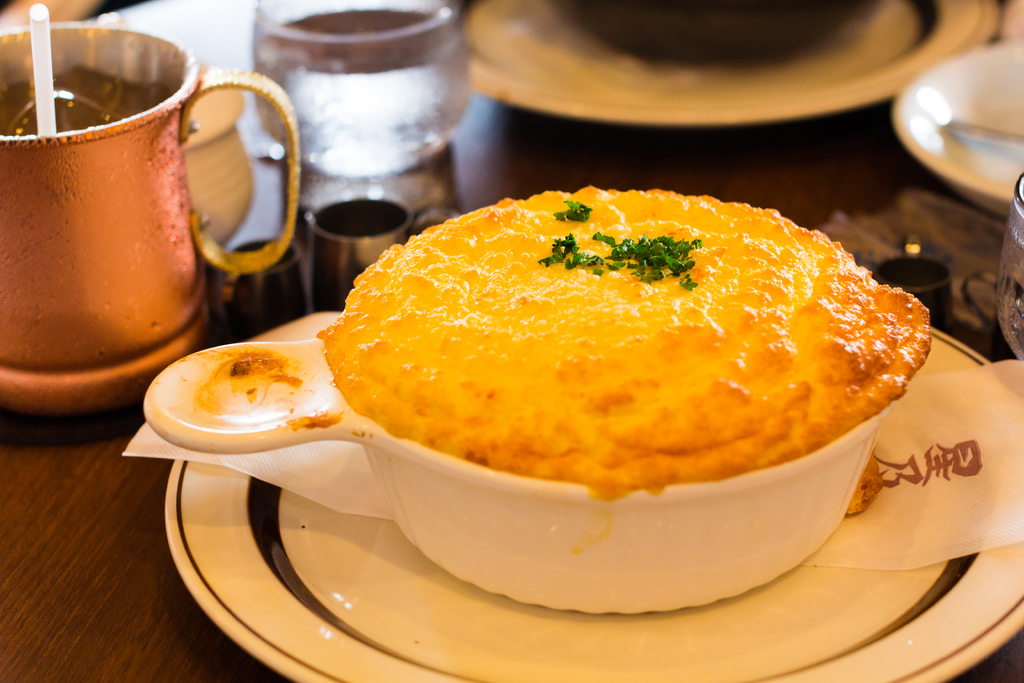person: (0, 0, 255, 28)
